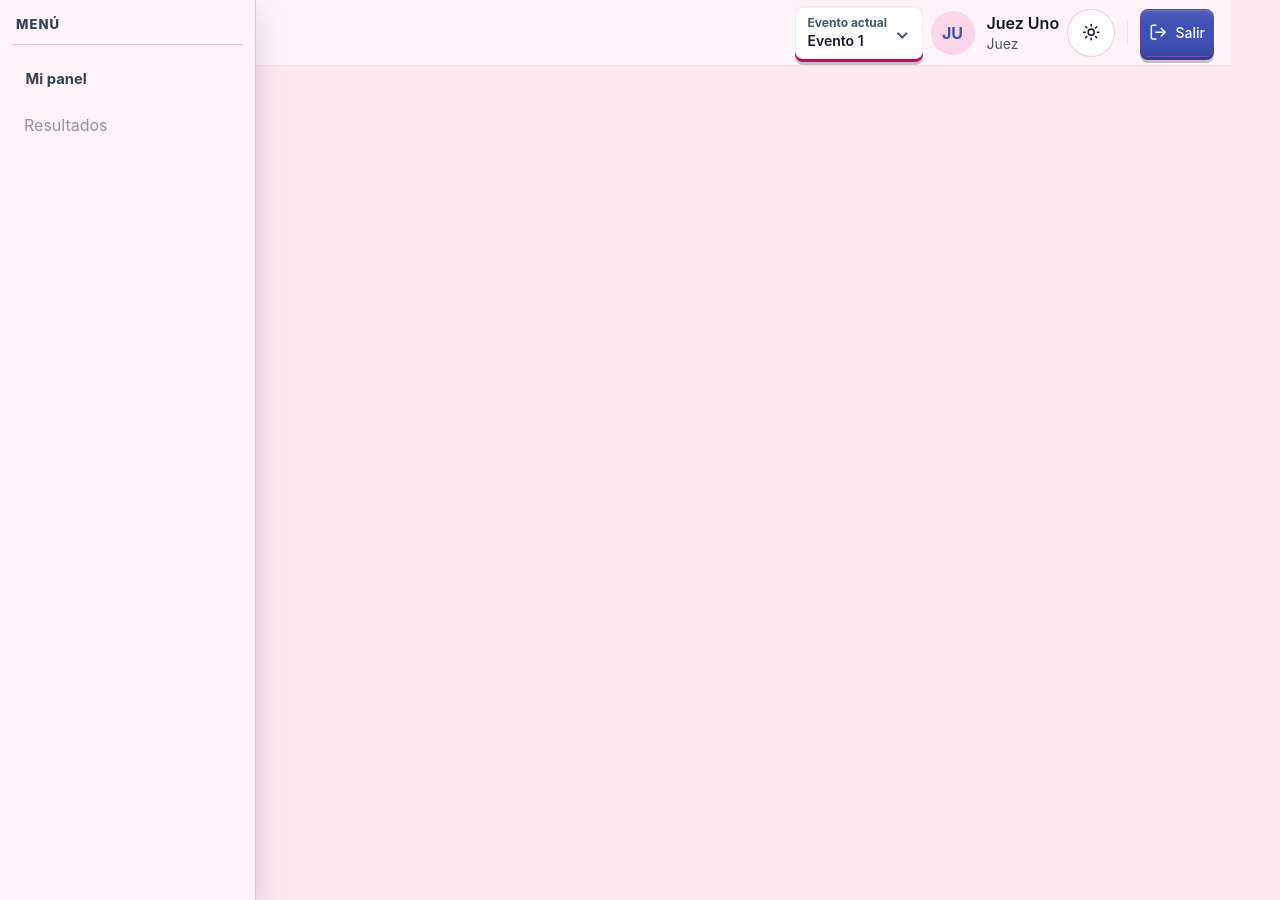
Scenario: identidad y selección de evento › no ofrece crear evento ni copy de administración al jurado
The image size is (1280, 900).
Click the button "Evento actual Evento 1 ⌄": (858, 33) top-left (794, 6), bottom-right (922, 59)
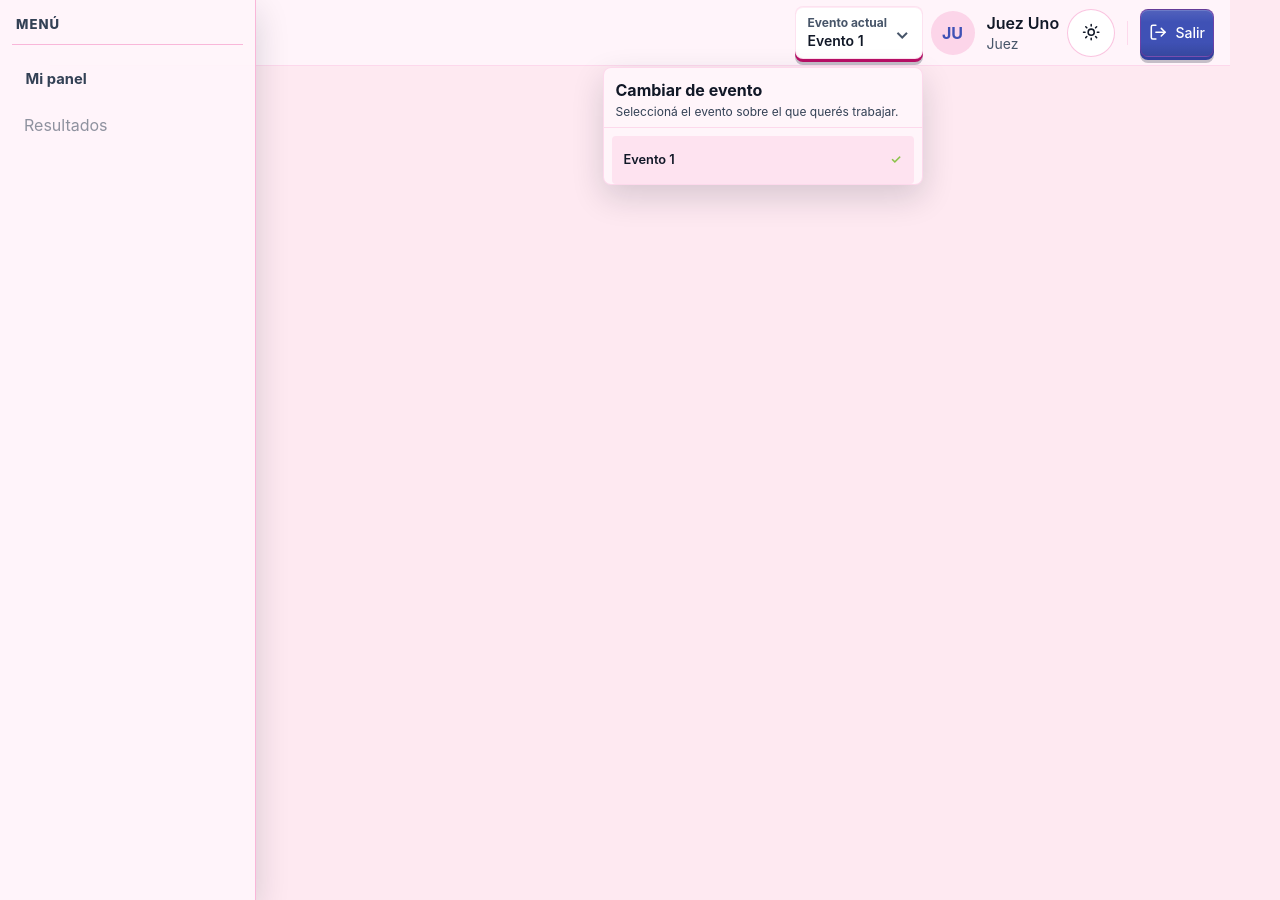
Expected: the text "Seleccioná el evento sobre el que querés trabajar." is shown, top-left (616, 104), bottom-right (910, 119)
